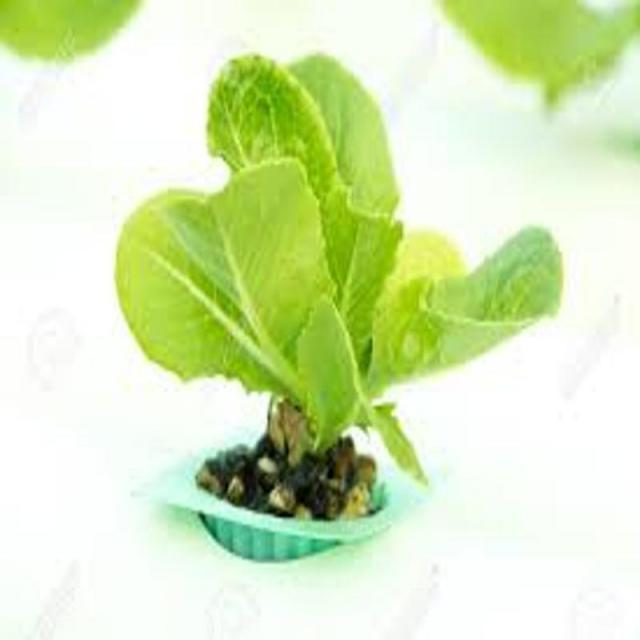Lettuce: (112, 48, 565, 487)
